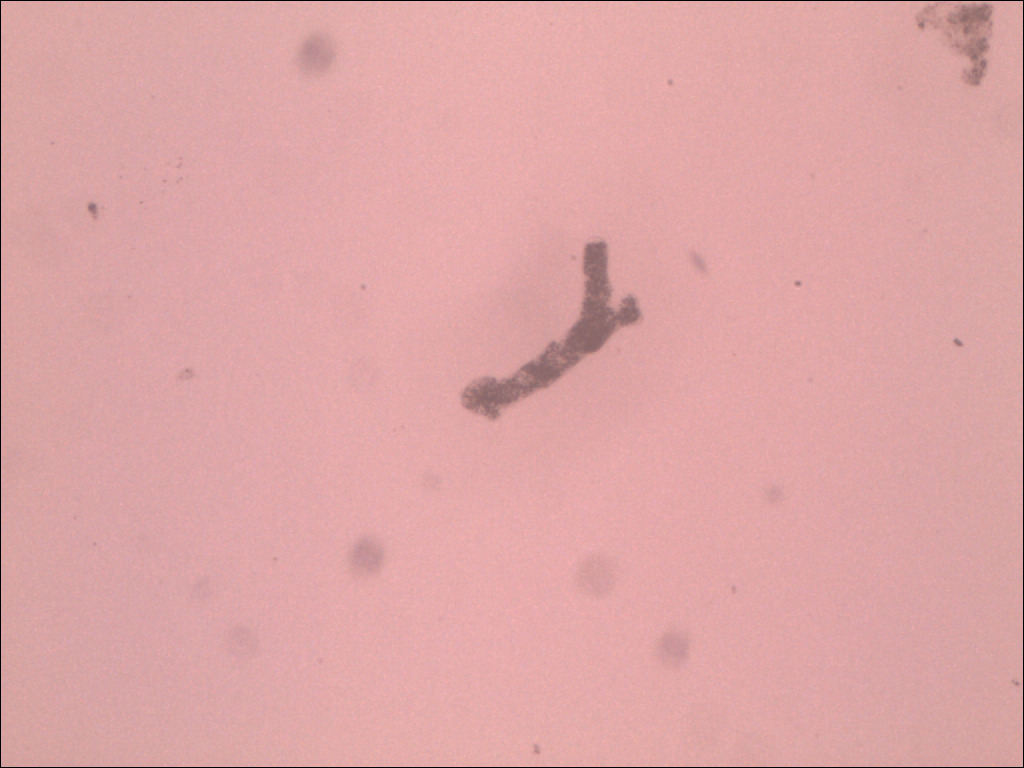amoeba: (453, 233, 668, 431)
